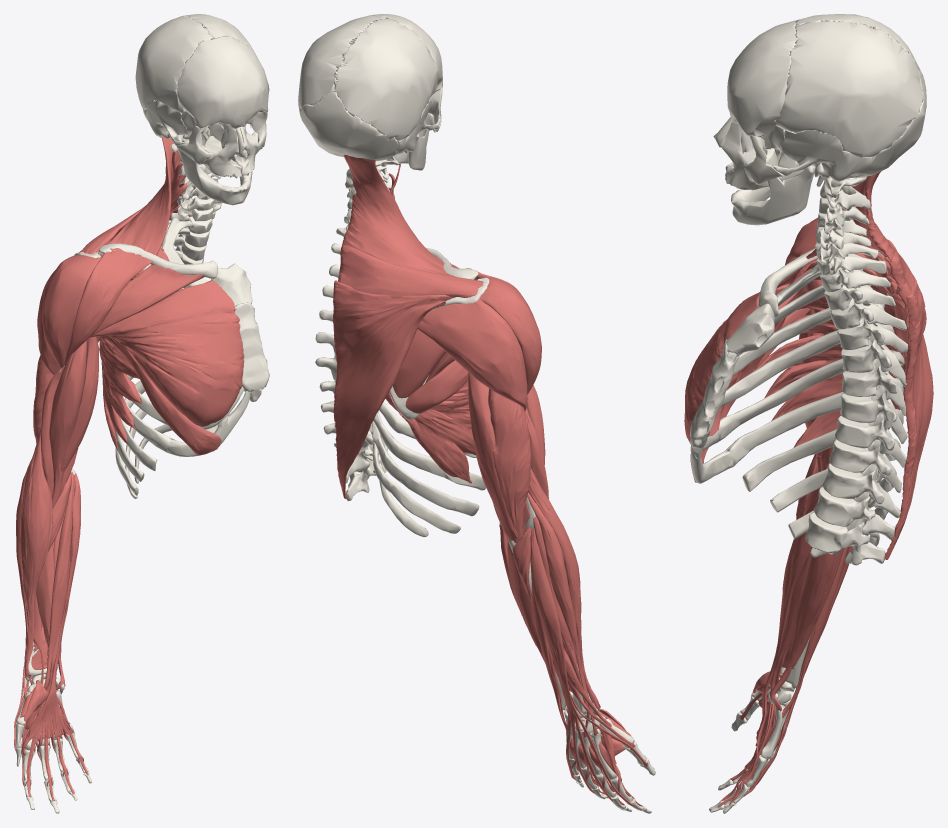
Rendered from muscle_upper.glb.
The picture shows the model from 3 angles, left to right: view 1: azimuth 30°, elevation 25°; view 2: azimuth 150°, elevation 25°; view 3: azimuth 270°, elevation 25°; orthographic projection. The views are drawn at different scales.
Visible parts, largest first — view 1: b_skull, pectoralis_major, b_thorax, deltoid, biceps_brachii, brachioradialis, trapezius, serratus_anterior, b_spine_ct, palmaris_longus, flexor_digitorum_superficialis, b_hand (+8 smaller); view 2: trapezius, b_skull, deltoid, triceps_brachii, b_thorax, serratus_anterior, extensor_digitorum, b_spine_ct, b_hand, extensor_carpi_radialis_longus, brachioradialis, infraspinatus (+9 smaller); view 3: b_skull, b_spine_ct, b_thorax, trapezius, serratus_anterior, pectoralis_major, flexor_carpi_ulnaris, b_hand, flexor_digitorum_superficialis, palmaris_longus, extensor_carpi_ulnaris, b_clavicle (+6 smaller).
Part boxes in pixels (x1,y1,x2,y2): b_skull: (135, 14, 269, 205); pectoralis_major: (89, 265, 244, 455); b_thorax: (114, 218, 269, 498); deltoid: (37, 248, 152, 375); biceps_brachii: (49, 336, 98, 507); brachioradialis: (20, 428, 53, 679); trapezius: (79, 136, 184, 255); serratus_anterior: (99, 247, 169, 450); b_spine_ct: (161, 139, 221, 432); palmaris_longus: (27, 473, 80, 739); flexor_digitorum_superficialis: (24, 493, 83, 789); b_hand: (15, 674, 92, 813); trapezius: (332, 154, 483, 498); b_skull: (298, 14, 442, 170); deltoid: (417, 264, 541, 411); triceps_brachii: (468, 372, 531, 543); b_thorax: (371, 402, 485, 537); serratus_anterior: (389, 380, 476, 483); extensor_digitorum: (530, 528, 635, 806); b_spine_ct: (315, 156, 399, 501); b_hand: (564, 707, 655, 813); extensor_carpi_radialis_longus: (527, 492, 598, 735); brachioradialis: (528, 468, 600, 711); infraspinatus: (393, 329, 446, 398); b_skull: (713, 14, 926, 225); b_spine_ct: (805, 176, 907, 565); b_thorax: (690, 255, 904, 563); trapezius: (806, 171, 933, 560); serratus_anterior: (755, 258, 906, 469); pectoralis_major: (684, 267, 811, 482); flexor_carpi_ulnaris: (769, 548, 844, 711); b_hand: (709, 676, 794, 813); flexor_digitorum_superficialis: (737, 547, 812, 793); palmaris_longus: (755, 497, 818, 756); extensor_carpi_ulnaris: (782, 547, 847, 717); b_clavicle: (758, 248, 817, 317).
Size of the model in its own units: 0.3987 by 0.9832 by 0.2439.
